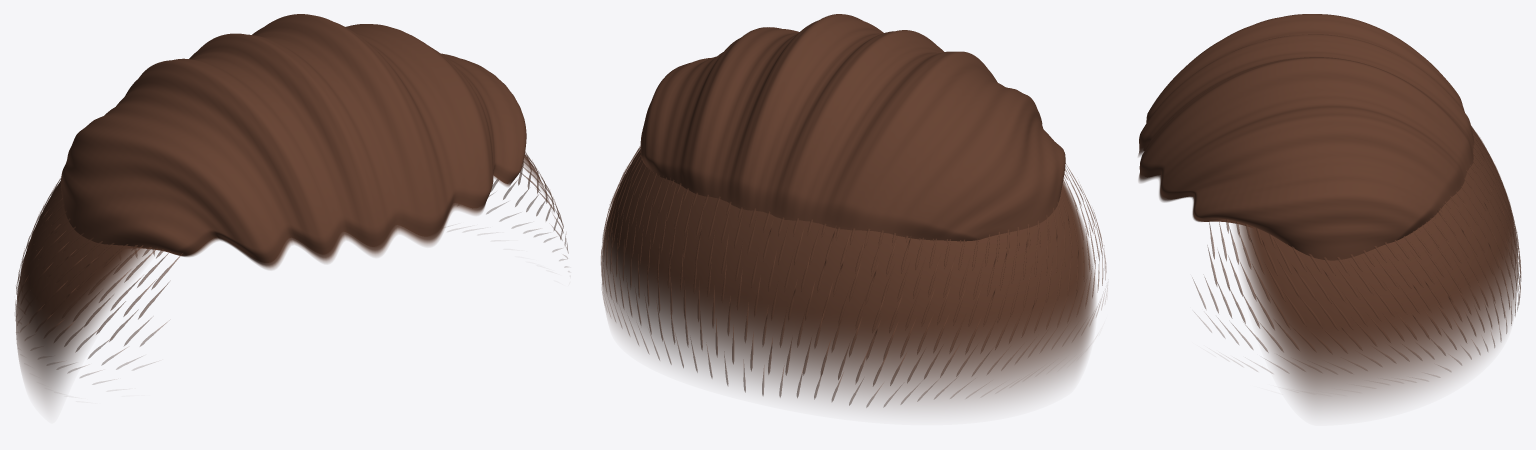
The model's file is Masculine-sidepart-hair259.glb.
3 renders of one model, left to right at view 1: azimuth 30°, elevation 25°; view 2: azimuth 150°, elevation 25°; view 3: azimuth 270°, elevation 25°, orthographic. The views are drawn at different scales.
Visible parts, largest first — view 1: 226 hair / Hair259 / textured forward Crop, 226 hair / Hair258 / smooth side fade, 226 hair / Hair259 / directional fade marks214; view 2: 226 hair / Hair258 / smooth side fade, 226 hair / Hair259 / textured forward Crop, 226 hair / Hair259 / directional fade marks214; view 3: 226 hair / Hair259 / textured forward Crop, 226 hair / Hair258 / smooth side fade, 226 hair / Hair259 / directional fade marks214.
Boxes of the visible parts, x1,y1,x2,y2 form: 226 hair / Hair259 / textured forward Crop: (61,14,526,269); 226 hair / Hair258 / smooth side fade: (16,154,551,405); 226 hair / Hair259 / directional fade marks214: (15,152,568,384); 226 hair / Hair258 / smooth side fade: (601,149,1095,409); 226 hair / Hair259 / textured forward Crop: (640,14,1065,241); 226 hair / Hair259 / directional fade marks214: (601,146,1107,407); 226 hair / Hair259 / textured forward Crop: (1138,14,1474,260); 226 hair / Hair258 / smooth side fade: (1234,128,1518,411); 226 hair / Hair259 / directional fade marks214: (1193,125,1521,380).
Size of the model in its own units: 0.9743 by 0.6424 by 0.7545.
